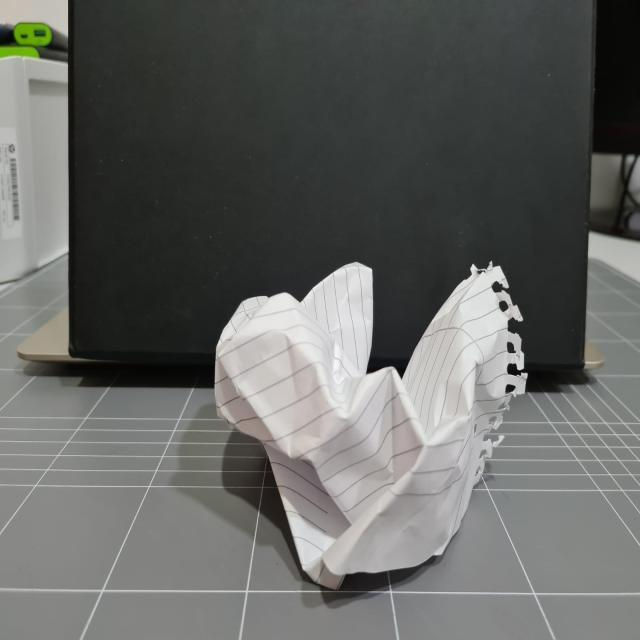cardboard paper: (68, 0, 592, 365), (214, 262, 525, 586)
